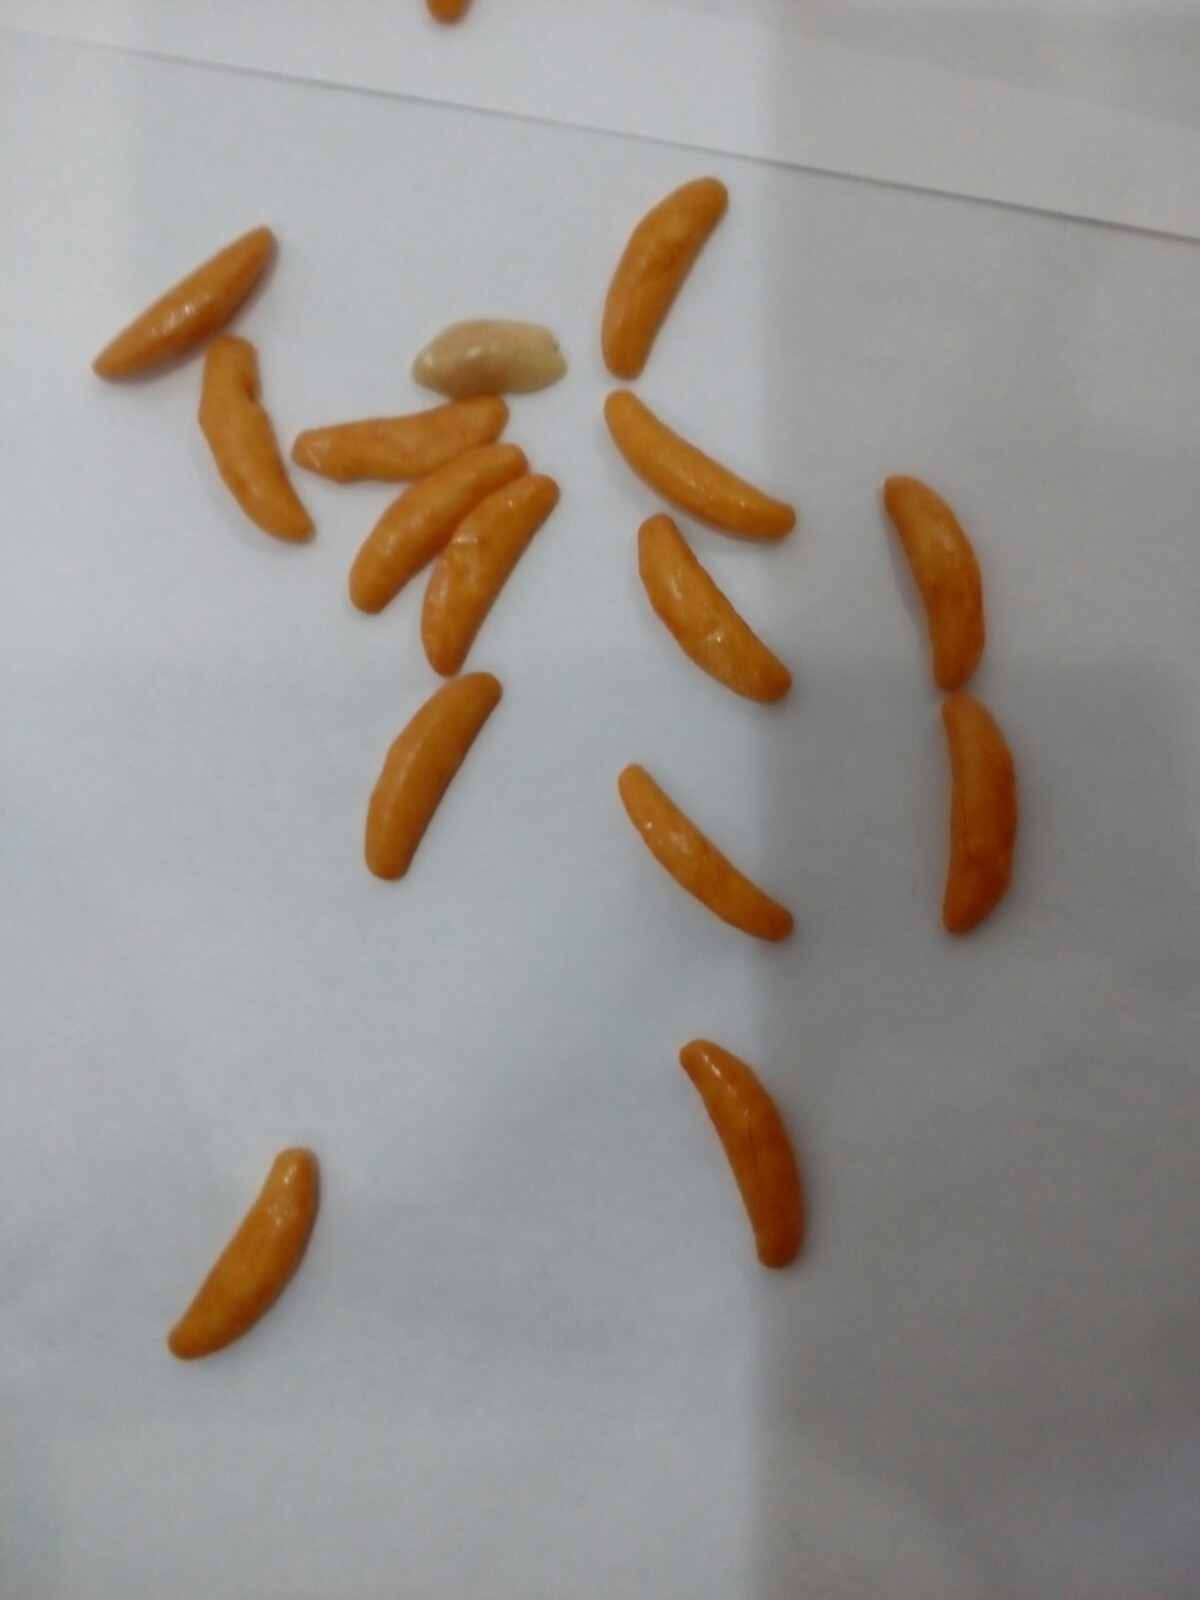peanut: (400, 307, 574, 408)
